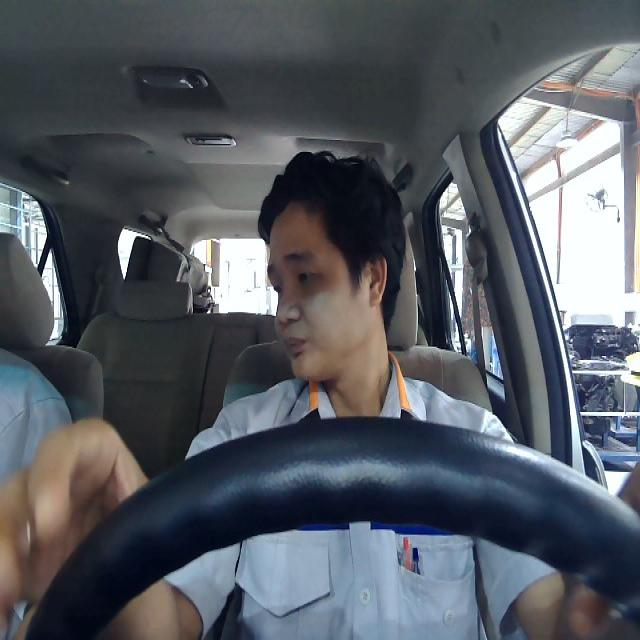seeing_left: (264, 191, 388, 380)
